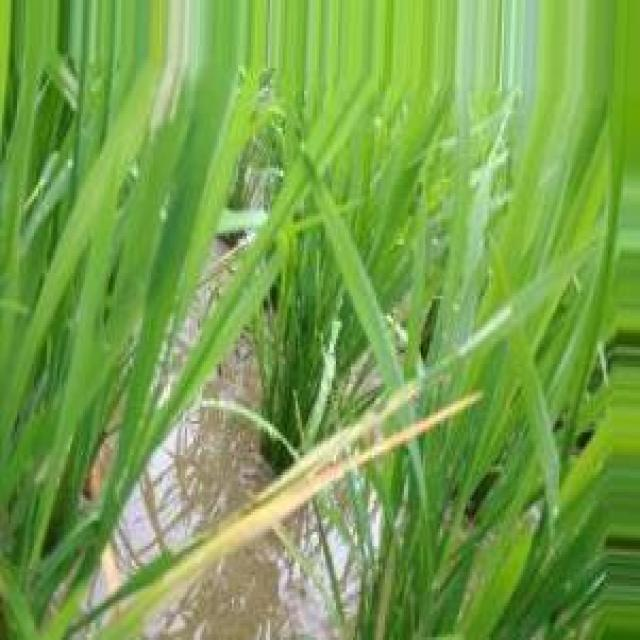Rice Tungro: (108, 381, 481, 633)
